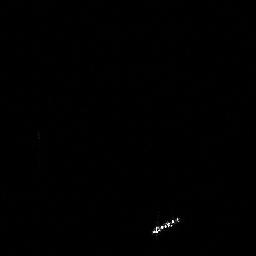ship: (152, 217, 179, 234)
